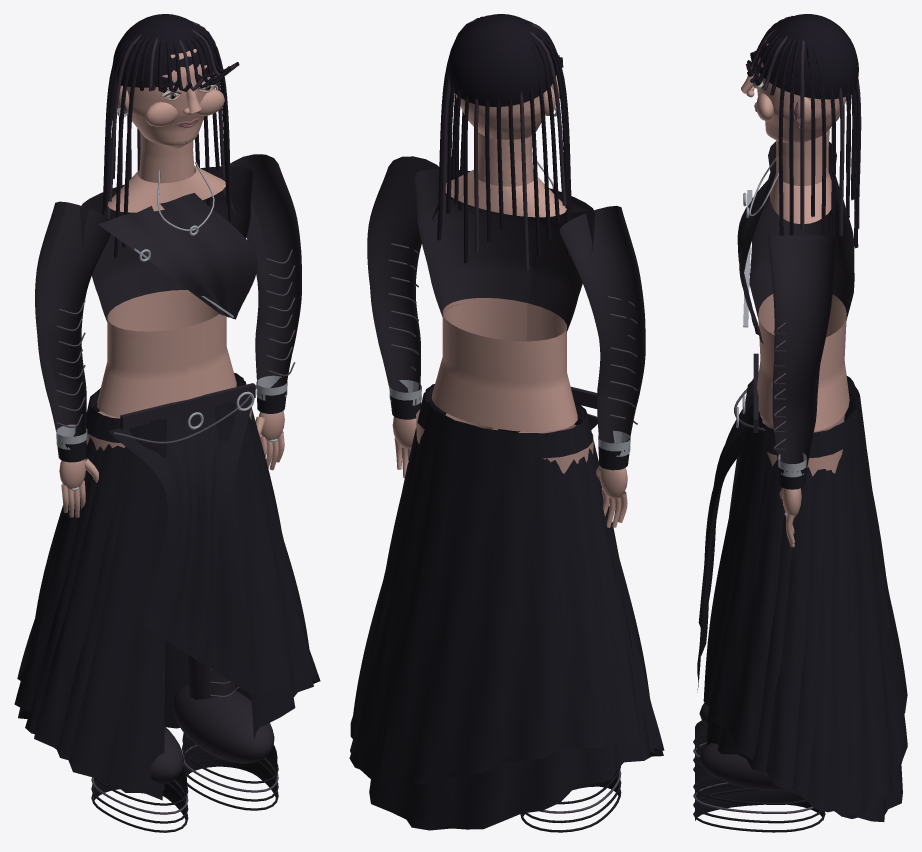
The model's file is look-0-detail.glb.
The picture shows the model from 3 angles, left to right: view 1: azimuth 30°, elevation 25°; view 2: azimuth 150°, elevation 25°; view 3: azimuth 270°, elevation 25°; orthographic projection. The views are drawn at different scales.
Parts seen in each view (by area): view 1: look-0-detail, arm-0, arm-1, leg-1, leg-0; view 2: look-0-detail, arm-0, arm-1, leg-0; view 3: look-0-detail, arm-1, leg-1, leg-0.
Boxes of the visible parts, x1,y1,x2,y2 form: look-0-detail: (14,14,320,800); arm-0: (35,201,110,517); arm-1: (219,154,301,470); leg-1: (172,407,278,810); leg-0: (87,411,188,832); look-0-detail: (349,14,664,830); arm-0: (559,206,645,527); arm-1: (367,156,446,477); leg-0: (518,424,621,832); look-0-detail: (697,14,907,821); arm-1: (768,235,836,547); leg-1: (693,430,842,832); leg-0: (693,415,844,771).
Bounding box in the file's own units: 0.7945 × 2.04 × 0.51.
